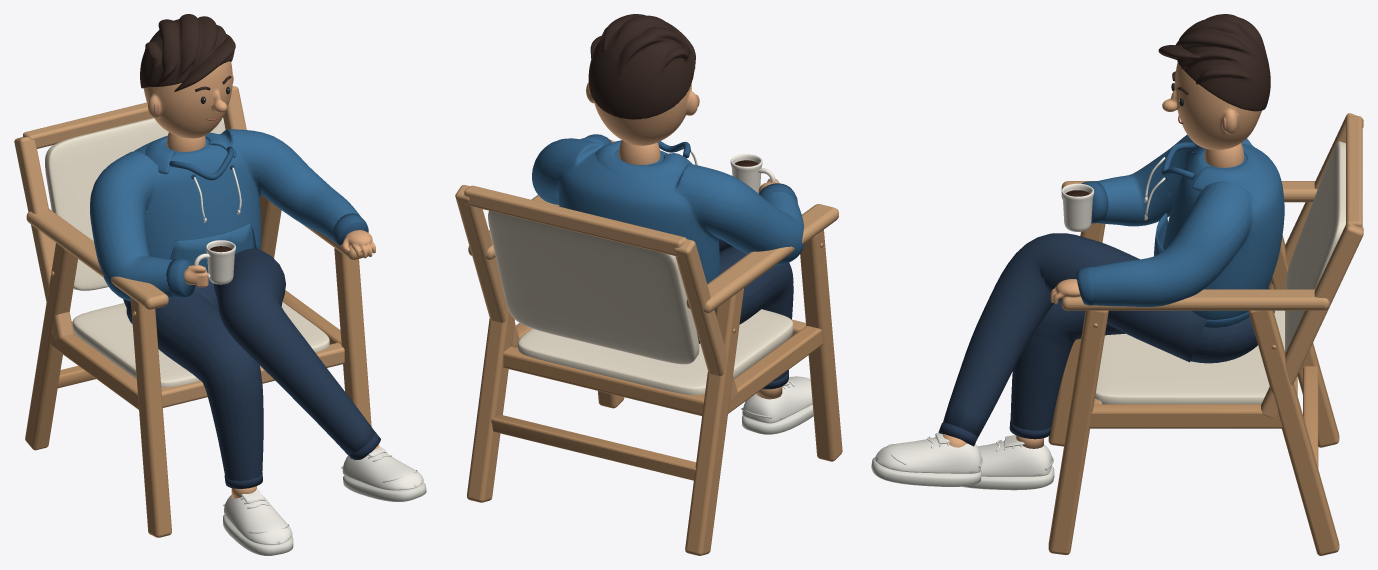
File: dreamer.glb
3 renders of one model, left to right at view 1: azimuth 30°, elevation 25°; view 2: azimuth 150°, elevation 25°; view 3: azimuth 270°, elevation 25°, orthographic. The views are drawn at different scales.
Visible parts, largest first — view 1: Character_Mesh, Chair_Mesh, Coffee_Mesh; view 2: Chair_Mesh, Character_Mesh, Coffee_Mesh; view 3: Character_Mesh, Chair_Mesh, Coffee_Mesh.
Boxes of the visible parts, x1,y1,x2,y2 form: Character_Mesh: [90, 14, 426, 555]; Chair_Mesh: [14, 86, 371, 537]; Coffee_Mesh: [194, 240, 235, 284]; Chair_Mesh: [455, 185, 842, 555]; Character_Mesh: [532, 14, 813, 434]; Coffee_Mesh: [730, 154, 775, 193]; Character_Mesh: [871, 14, 1284, 490]; Chair_Mesh: [1048, 113, 1363, 555]; Coffee_Mesh: [1061, 183, 1094, 231].
Size of the model in its own units: 0.8665 by 1.55 by 1.44.
